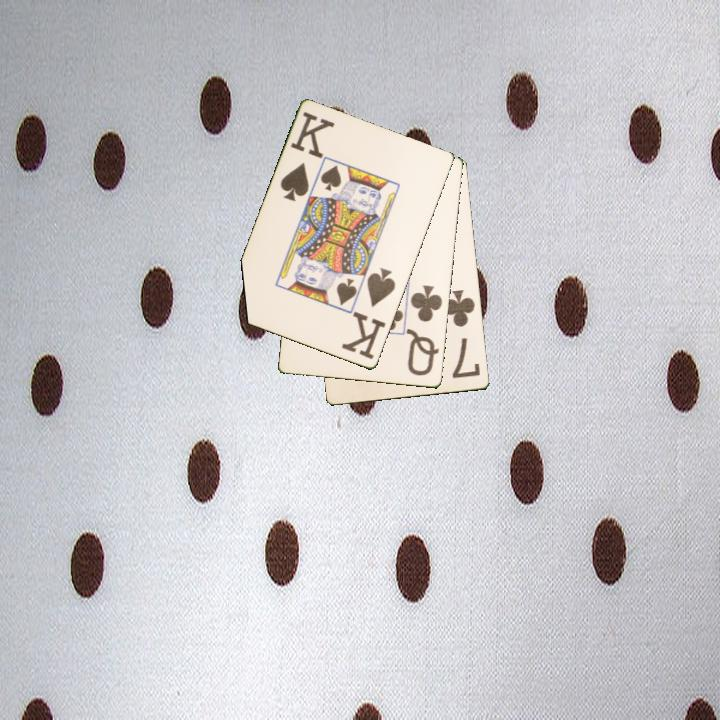7c: (440, 286, 483, 381)
Ks: (339, 264, 399, 363), (277, 108, 337, 205)
Qc: (404, 282, 446, 379)
